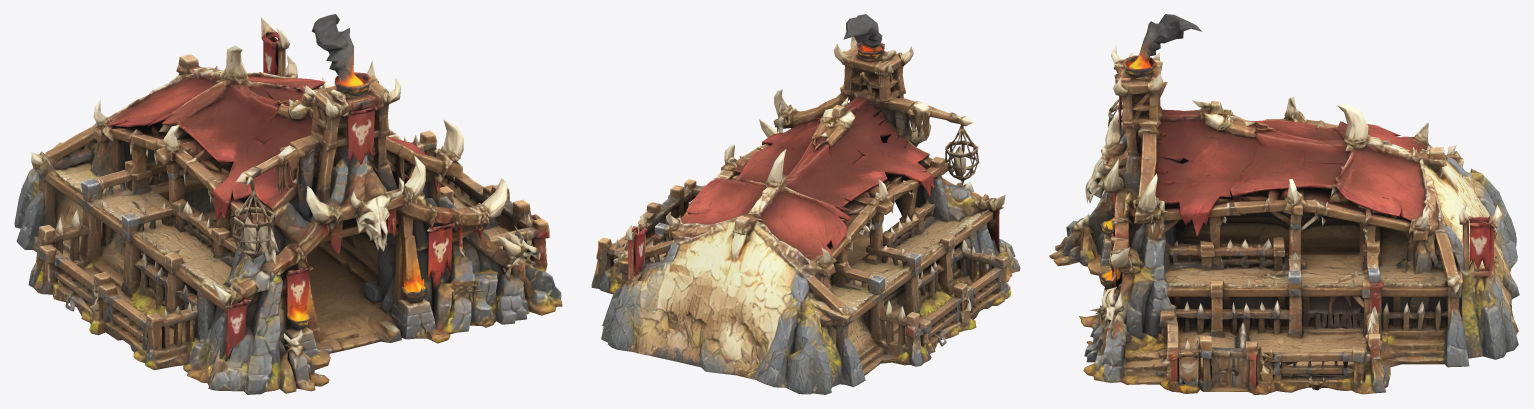
Rendered from monster den.glb.
3 views of the same model, side by side, from view 1: azimuth 30°, elevation 25°; view 2: azimuth 150°, elevation 25°; view 3: azimuth 270°, elevation 25° (orthographic). The views are drawn at different scales.
Parts seen in each view (by area): view 1: model; view 2: model; view 3: model.
Part boxes in pixels (box(x1,y1,x2,y2)): model: box(14, 14, 562, 394); model: box(591, 14, 1020, 394); model: box(1049, 14, 1519, 394).
Size of the model in its own units: 1.79 by 1.25 by 1.9.
1 material, 1 textured.
